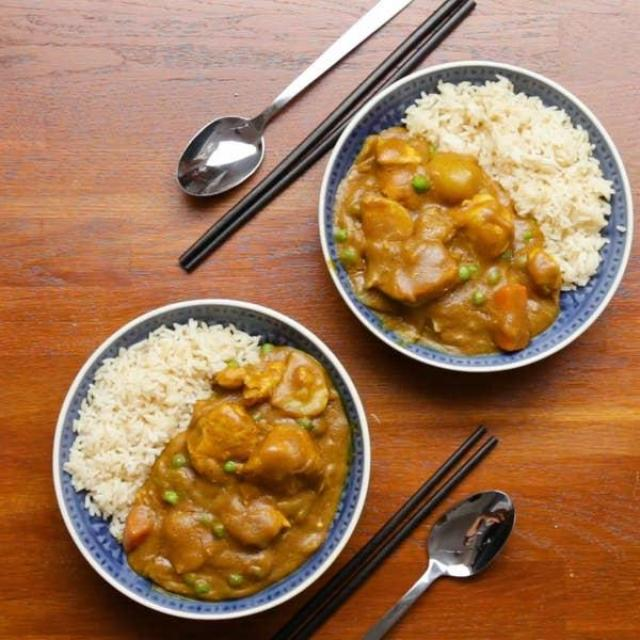chicken: (327, 150, 530, 346), (146, 397, 350, 592)
rice: (416, 74, 613, 289), (75, 328, 247, 538)
